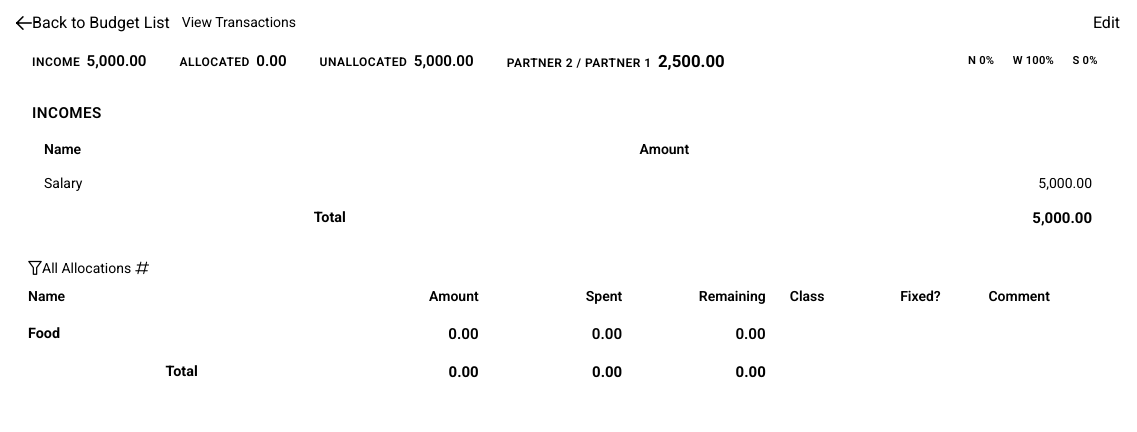
BudgetPage › toolbar — edit mode buttons › shows Save and Cancel buttons in edit mode
Click the button with test id "edit-btn": (1106, 22) left=1093, top=13, right=1120, bottom=32
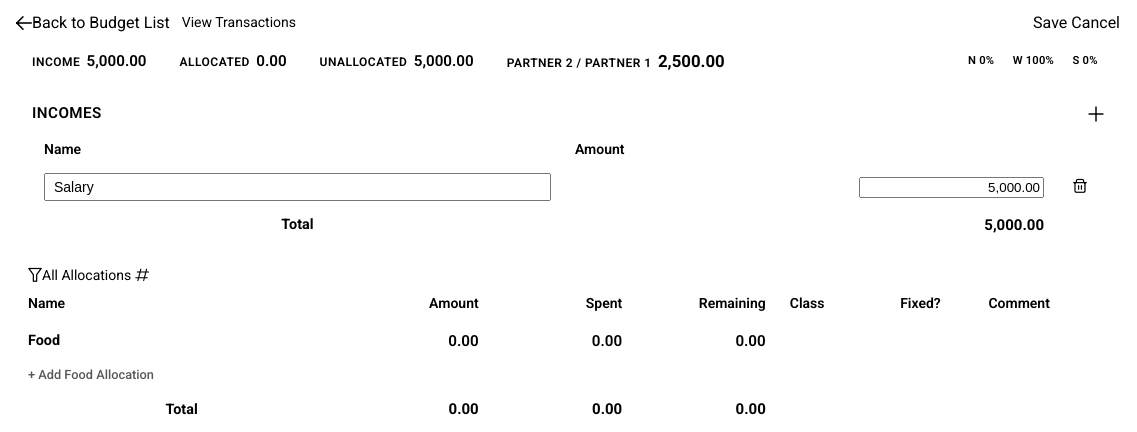
Result: the button with test id "save-btn" is shown at left=1033, top=13, right=1067, bottom=32
Result: the button with test id "cancel-btn" is shown at left=1071, top=13, right=1120, bottom=32
